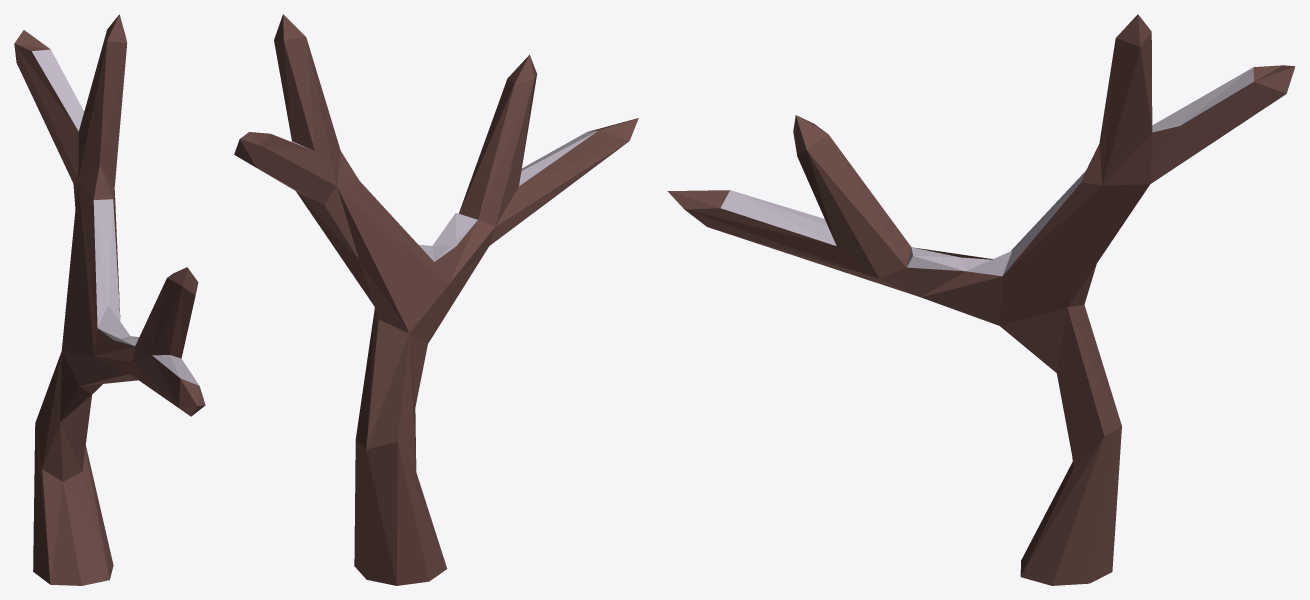
File: Willow_Dead_Snow_5.lod2.glb
3 views of the same model, side by side, from view 1: azimuth 30°, elevation 25°; view 2: azimuth 150°, elevation 25°; view 3: azimuth 270°, elevation 25° (orthographic). The views are drawn at different scales.
Visible parts, largest first — view 1: Willow_Dead_Snow_5; view 2: Willow_Dead_Snow_5; view 3: Willow_Dead_Snow_5.
Part boxes in pixels (x1=…): Willow_Dead_Snow_5: x1=14, y1=14, x2=205, y2=585; Willow_Dead_Snow_5: x1=234, y1=14, x2=638, y2=585; Willow_Dead_Snow_5: x1=667, y1=14, x2=1295, y2=585.
Bounding box in the file's own units: 0.5666 × 2.03 × 1.94.
